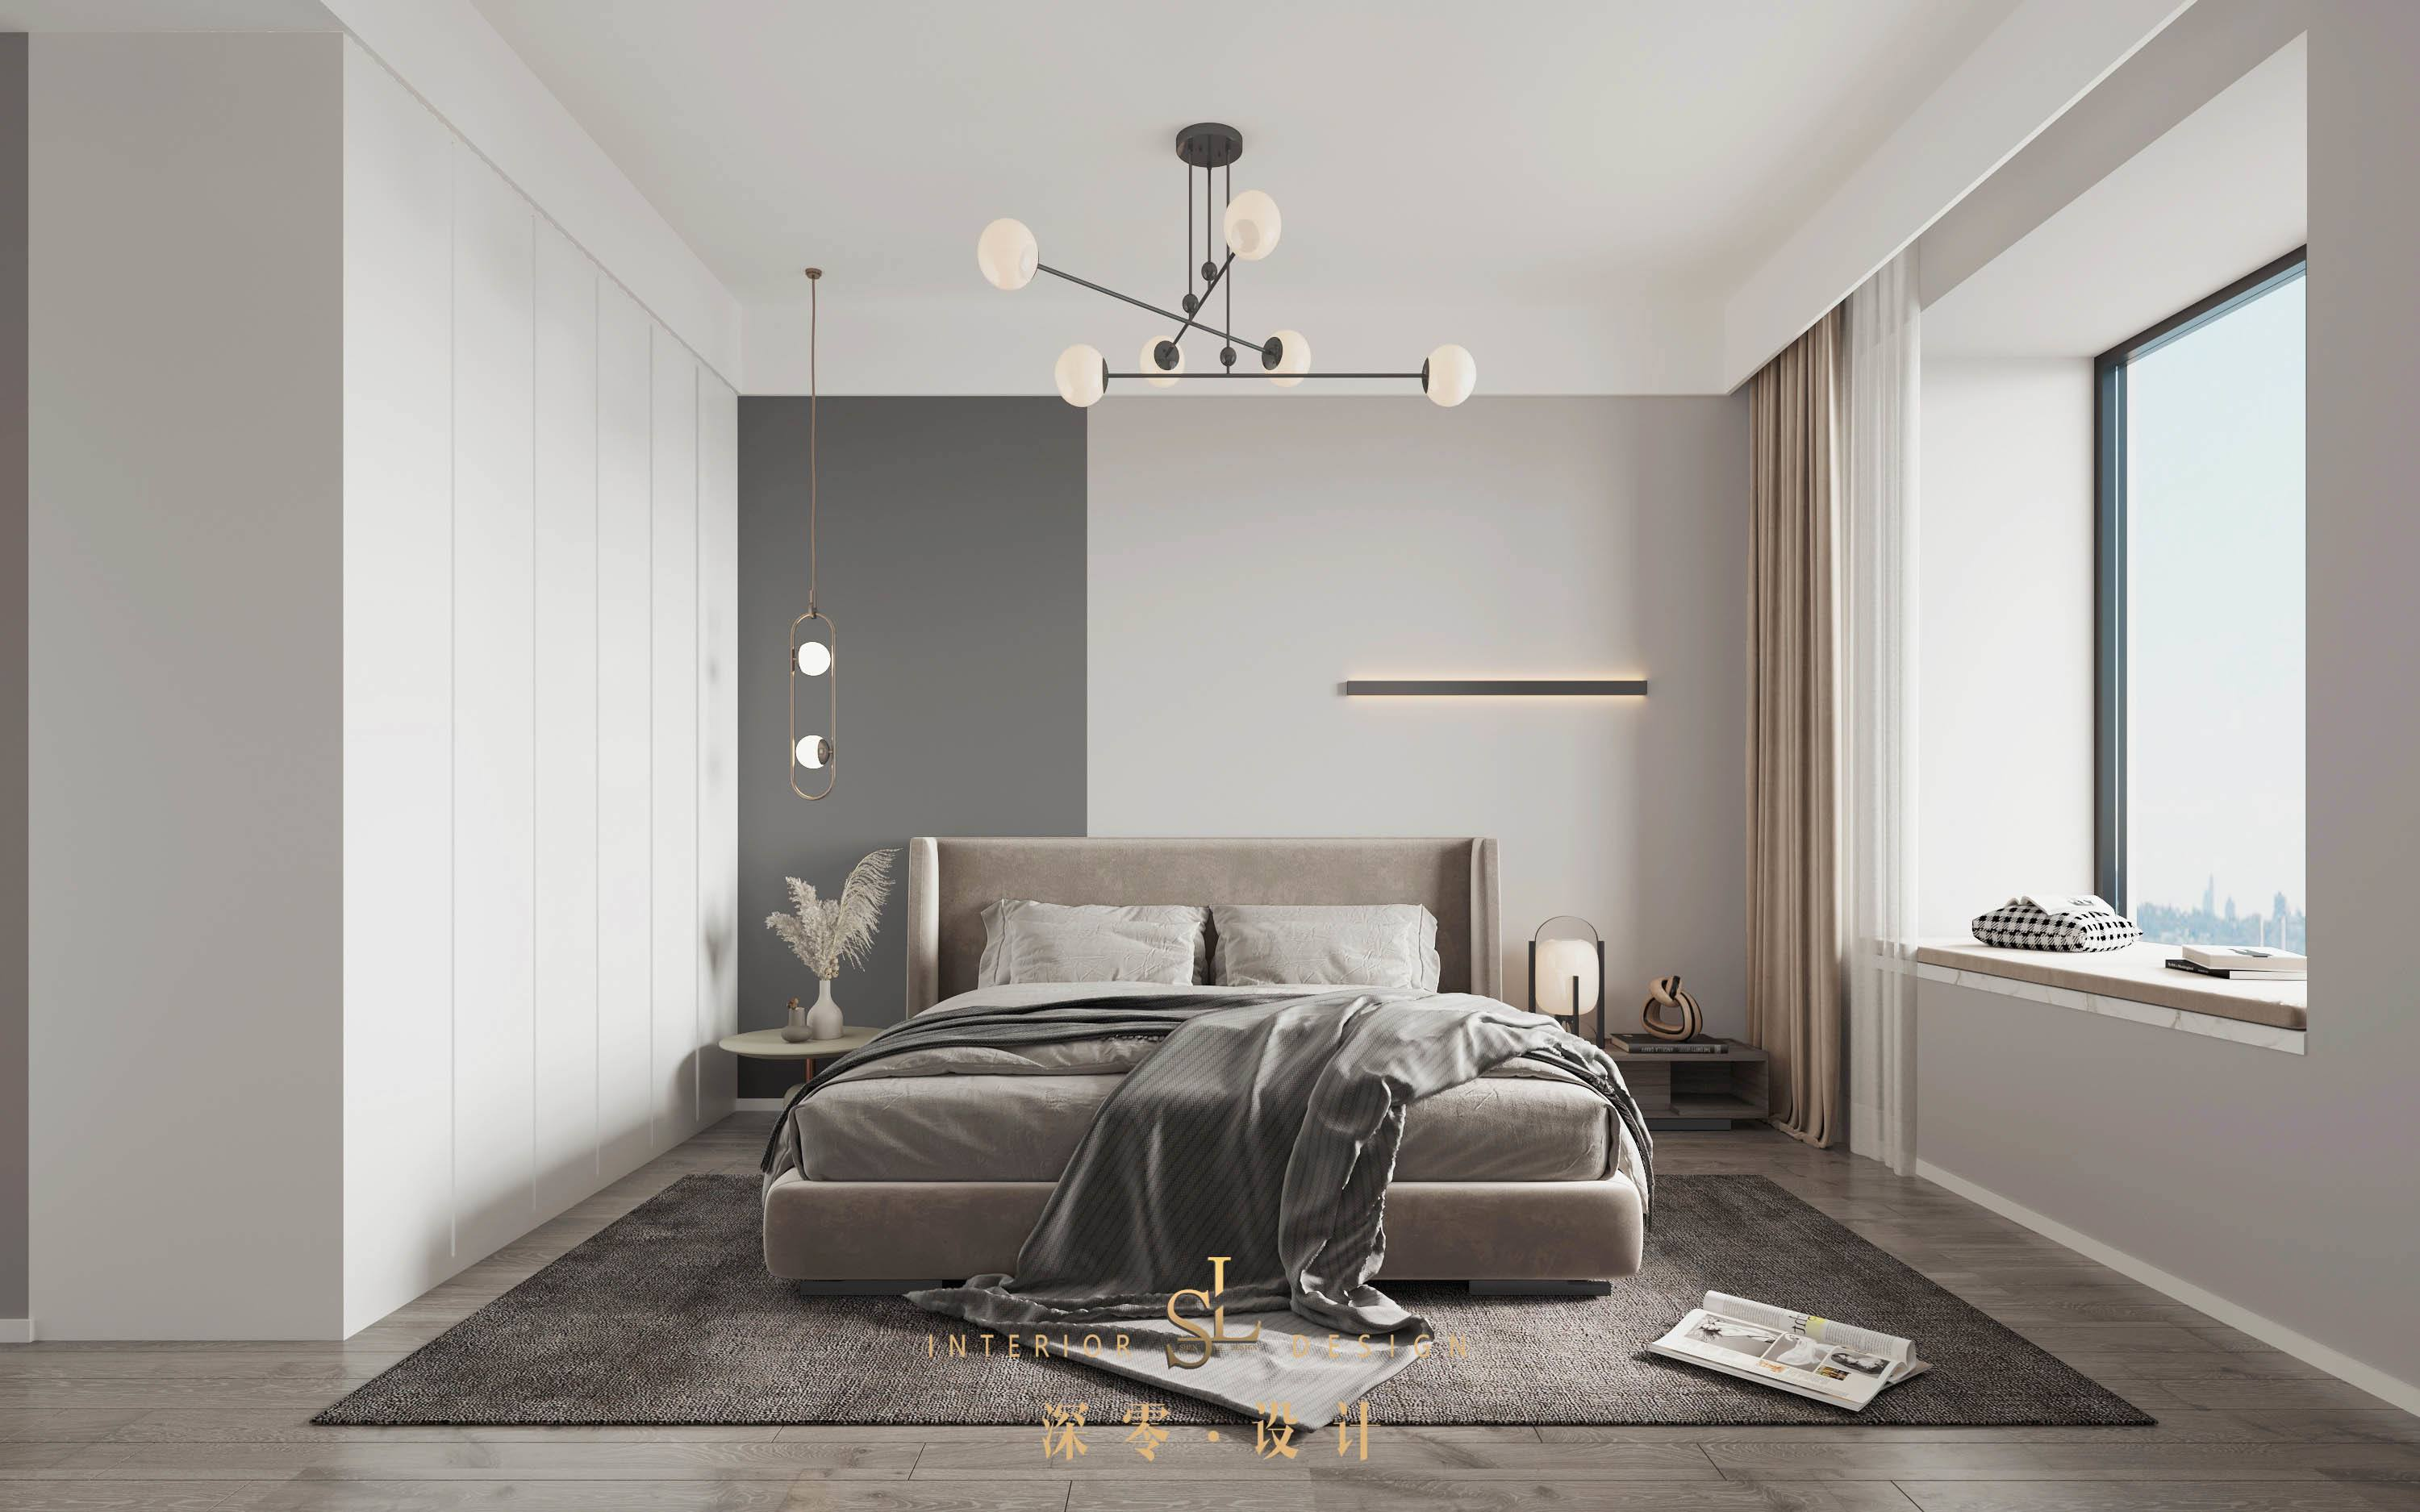床: (798, 979, 1673, 1319)
枕头: (967, 881, 1460, 1028), (1972, 878, 2134, 960)
灯: (960, 103, 1491, 425), (779, 254, 847, 805), (1326, 662, 1662, 718), (1533, 916, 1632, 1052)
